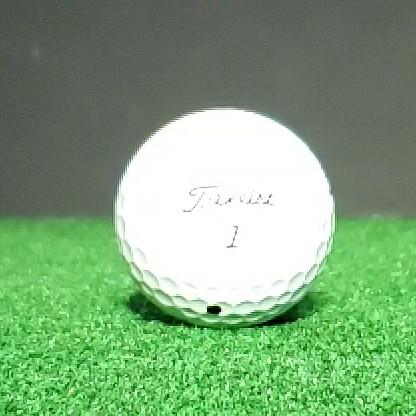golfball: (114, 109, 336, 328)
